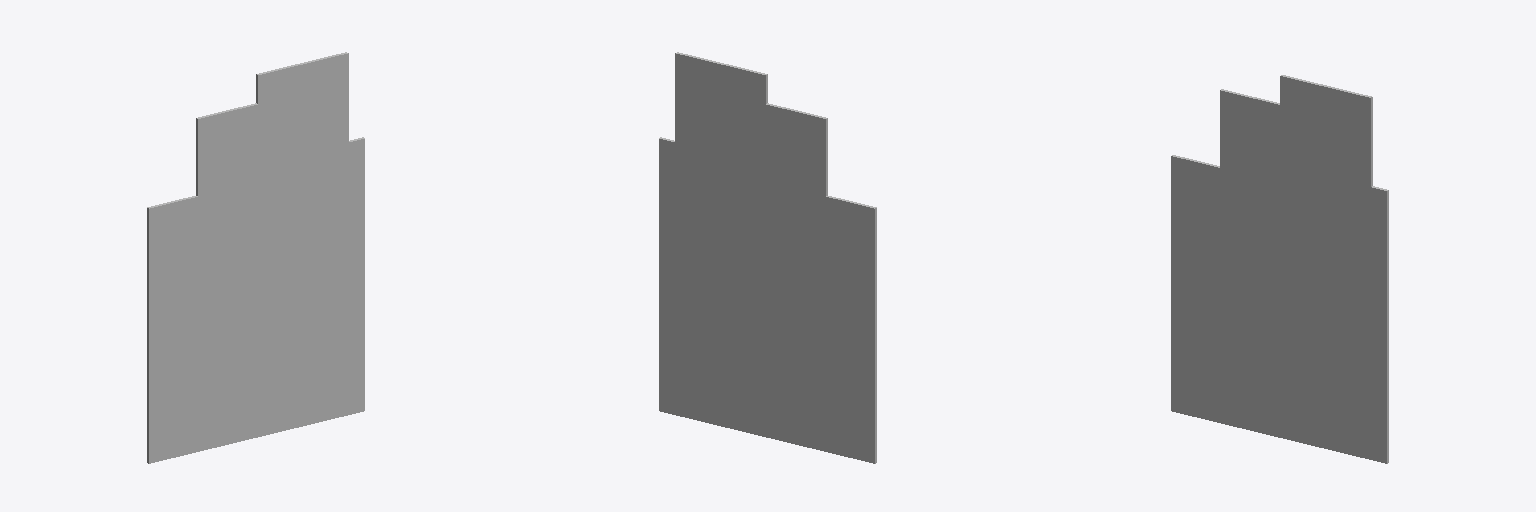
The model's file is ground.obj.
The picture shows the model from 3 angles: view 1: azimuth 30°, elevation 25°; view 2: azimuth 150°, elevation 25°; view 3: azimuth 330°, elevation 25°; orthographic projection.
Parts seen in each view (by area): view 1: obj_0; view 2: obj_0; view 3: obj_0.
Part boxes in pixels (x1,y1,x2,y2): obj_0: (147, 52, 364, 463); obj_0: (659, 52, 876, 463); obj_0: (1171, 75, 1388, 463).
Bounding box in the file's own units: 70 × 112 × 1.